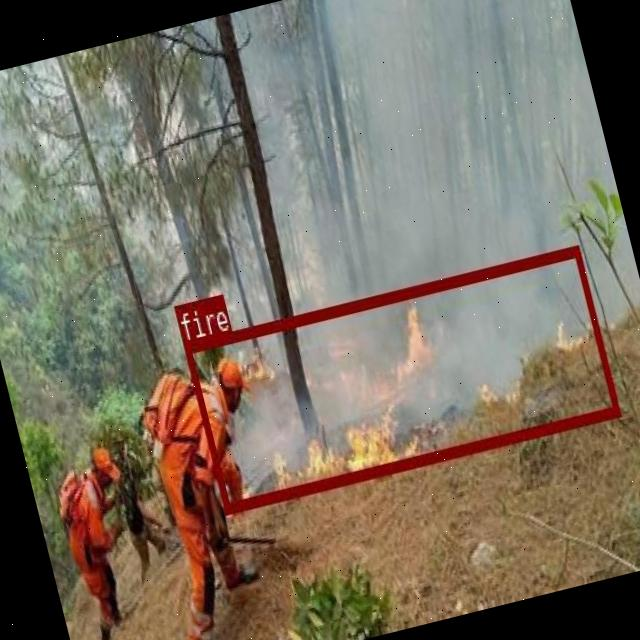fire: (182, 244, 620, 512)
